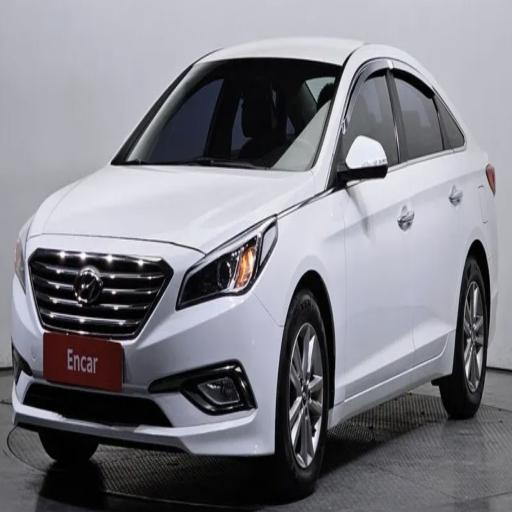normal: (14, 5, 507, 481)
